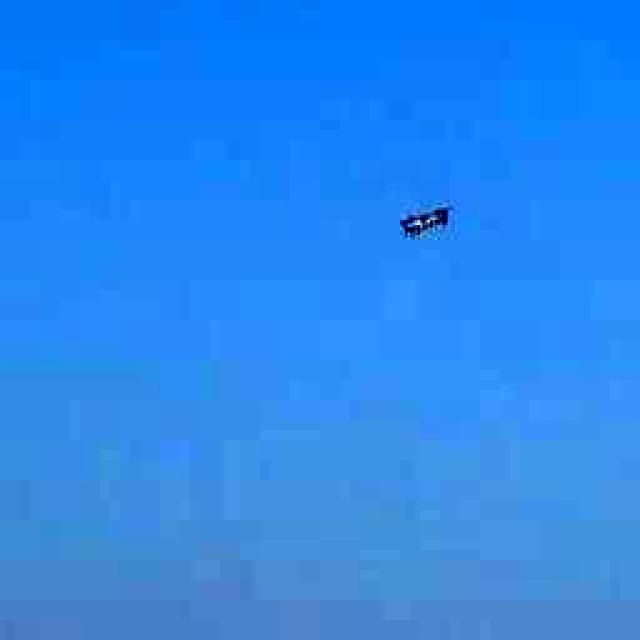bird: (355, 159, 488, 274)
